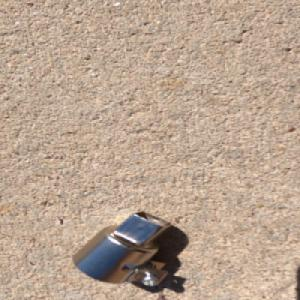MetalPart: (70, 211, 174, 287)
